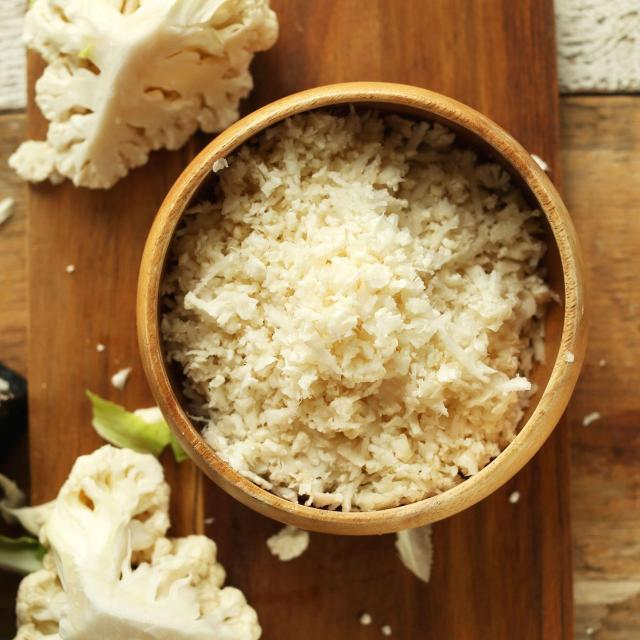rice: (169, 111, 550, 513)
